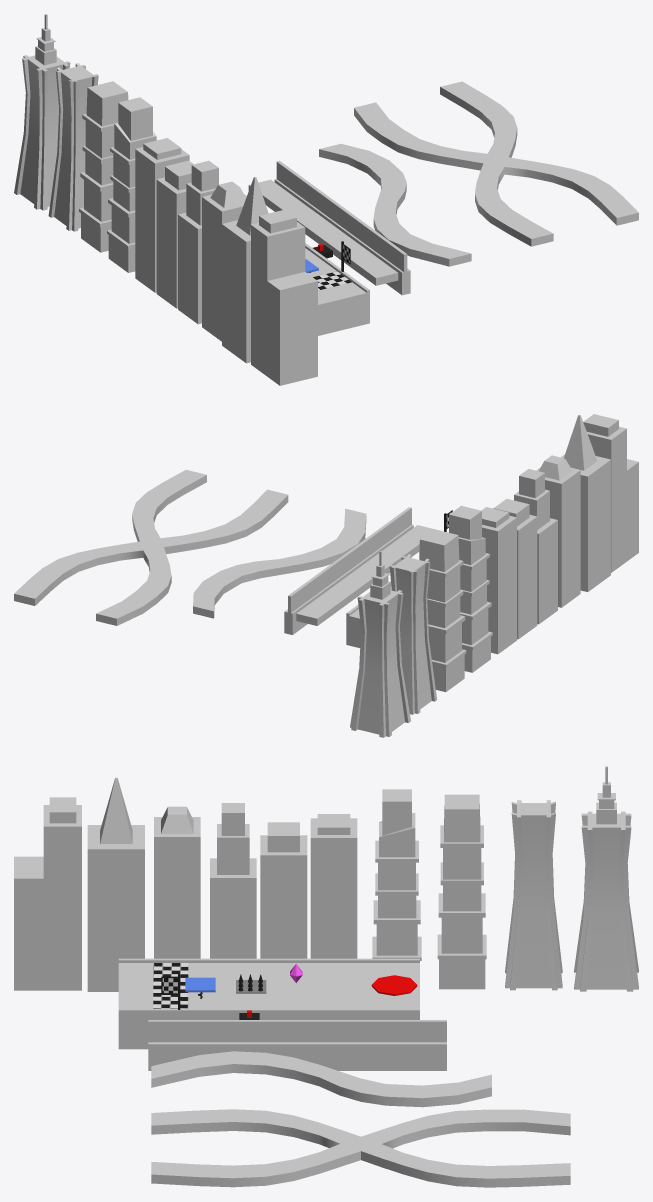
File: build.fbx
3 views of the same model, one above another, from view 1: azimuth 30°, elevation 25°; view 2: azimuth 150°, elevation 25°; view 3: azimuth 270°, elevation 25° (orthographic). The views are drawn at different scales.
Parts seen in each view (by area): view 1: pCube22, pCube13, pCube12, pCube10, pCube11, pCube9, pCube7, pCube16, pCube8, pCube15, pCube5, pCube6 (+3 smaller); view 2: pCube22, pCube12, pCube10, pCube7, pCube11, pCube9, pCube13, pCube8, pCube16, pCube6, pCube15, pCube5 (+3 smaller); view 3: pCube22, pCube24, pCube15, pCube13, pCube12, pCube7, pCube11, pCube10, pCube16, pCube9, pCube6, pCube8 (+4 smaller).
Part boxes in pixels (box(x1,y1,x2,y2)): pCube22: box(354, 81, 638, 246); pCube13: box(251, 209, 317, 385); pCube12: box(14, 14, 70, 210); pCube10: box(79, 81, 128, 252); pCube11: box(48, 63, 98, 231); pCube9: box(107, 97, 156, 272); pCube7: box(222, 177, 268, 363); pCube16: box(319, 143, 471, 266); pCube8: box(135, 138, 189, 292); pCube15: box(274, 160, 410, 295); pCube5: box(178, 160, 219, 324); pCube6: box(202, 181, 246, 341); pCube22: box(14, 469, 288, 625); pCube12: box(350, 551, 410, 737); pCube10: box(419, 529, 466, 691); pCube7: box(561, 415, 610, 591); pCube11: box(389, 554, 437, 714); pCube9: box(449, 505, 492, 672); pCube13: box(583, 414, 638, 572); pCube8: box(481, 507, 516, 654); pCube16: box(193, 508, 366, 618); pCube6: box(536, 455, 580, 607); pCube15: box(284, 507, 413, 634); pCube5: box(514, 469, 557, 624); pCube22: box(151, 1109, 570, 1187); pCube24: box(118, 958, 419, 1049); pCube15: box(148, 1020, 446, 1070); pCube13: box(14, 797, 81, 990); pCube12: box(574, 766, 638, 991); pCube7: box(87, 777, 144, 991); pCube11: box(505, 800, 562, 990); pCube10: box(437, 794, 486, 989); pCube16: box(151, 1051, 491, 1107); pCube9: box(372, 789, 421, 960); pCube6: box(154, 806, 200, 958); pCube8: box(310, 814, 357, 958).
Bounding box in the file's own units: 78.42 × 32.4 × 84.79.
Materials: 1 (1 with a texture image).
